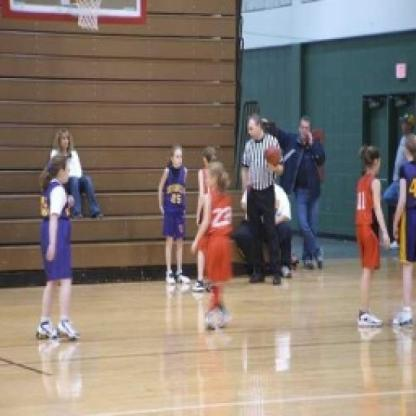basketball: (264, 146, 282, 164)
